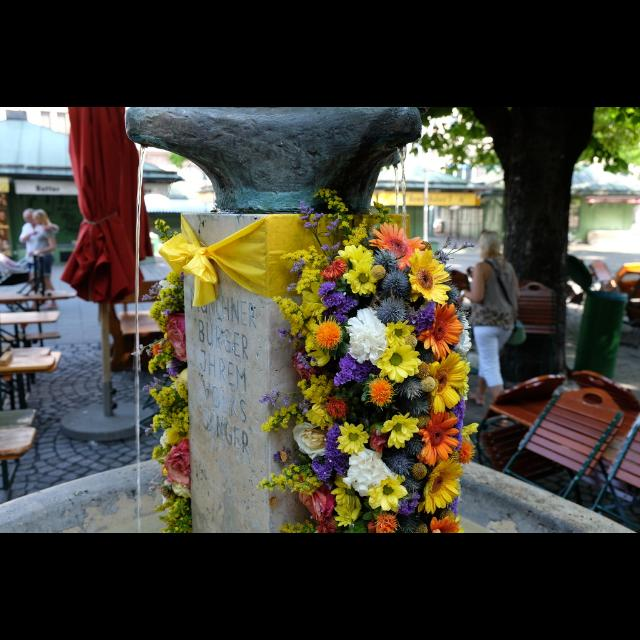Flower: (255, 188, 479, 532), (130, 220, 186, 532), (306, 315, 348, 363)
